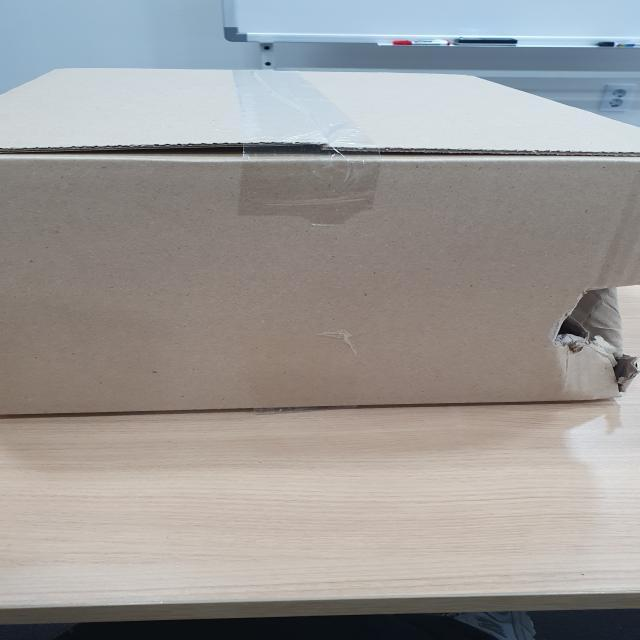hole: (544, 278, 640, 395)
